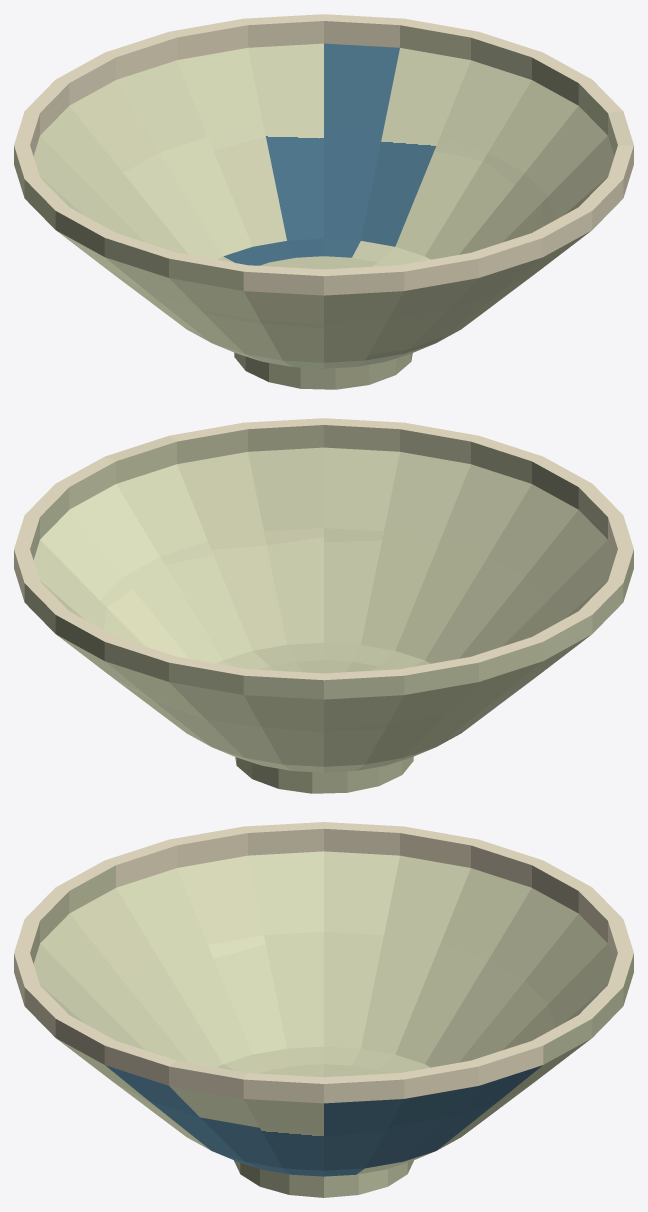
File: vessel-seto.glb
3 renders of one model, top to bottom at view 1: azimuth 30°, elevation 25°; view 2: azimuth 150°, elevation 25°; view 3: azimuth 270°, elevation 25°, orthographic.
Visible parts, largest first — view 1: vessel-seto/complete-inner-outer-shell-with-drainage, vessel-seto/complete-open-foot-ring; view 2: vessel-seto/complete-inner-outer-shell-with-drainage, vessel-seto/complete-open-foot-ring; view 3: vessel-seto/complete-inner-outer-shell-with-drainage, vessel-seto/complete-open-foot-ring.
Part boxes in pixels (x1=…): vessel-seto/complete-inner-outer-shell-with-drainage: x1=14, y1=14, x2=633, y2=368; vessel-seto/complete-open-foot-ring: x1=234, y1=352, x2=412, y2=389; vessel-seto/complete-inner-outer-shell-with-drainage: x1=14, y1=418, x2=633, y2=772; vessel-seto/complete-open-foot-ring: x1=235, y1=756, x2=413, y2=793; vessel-seto/complete-inner-outer-shell-with-drainage: x1=14, y1=822, x2=633, y2=1176; vessel-seto/complete-open-foot-ring: x1=234, y1=1160, x2=413, y2=1197.
Bounding box in the file's own units: 0.348 × 0.128 × 0.348.
Materials: 1 (1 with a texture image).
